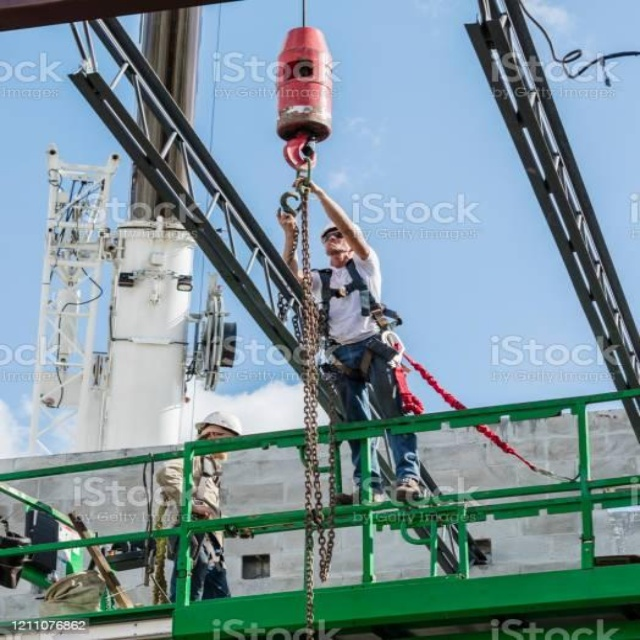Arnes_seguridad: (308, 255, 399, 355)
